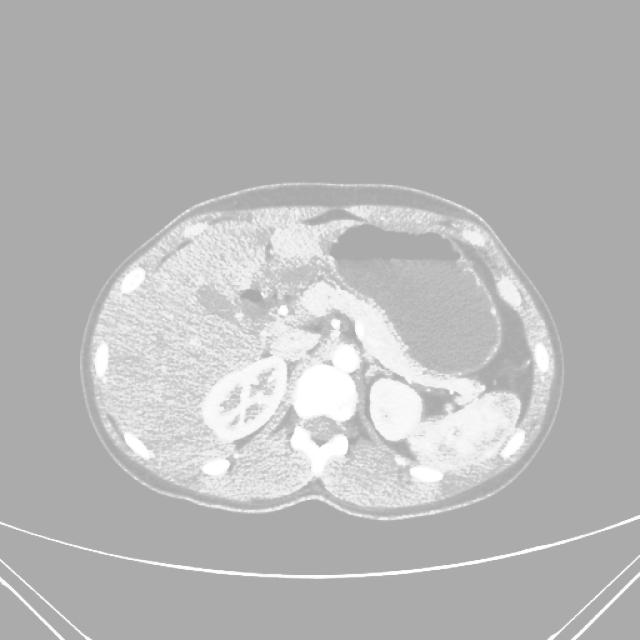NORMAL: (59, 154, 581, 529)
